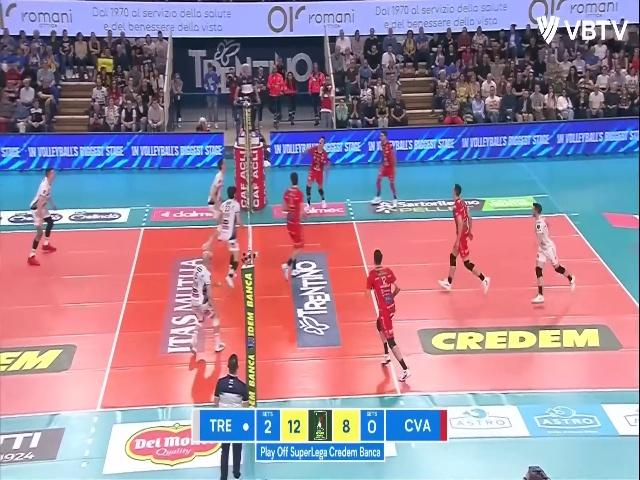volleyball court: (1, 212, 638, 414)
